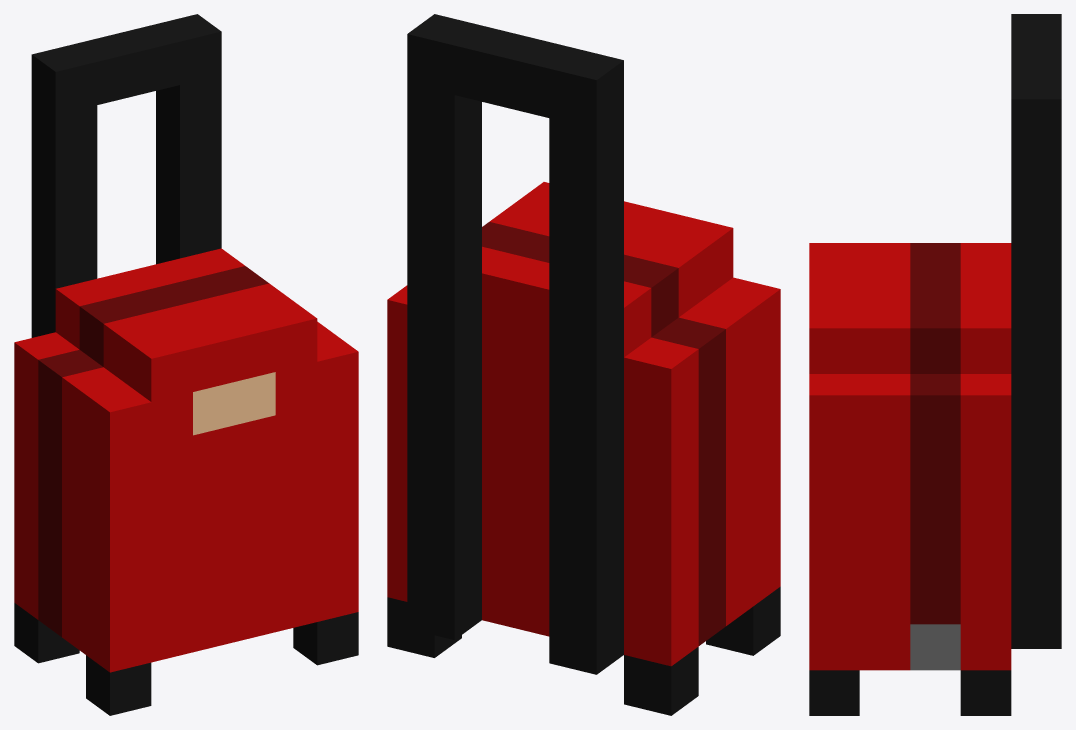
The model's file is luggage_red.obj.
3 renders of one model, left to right at view 1: azimuth 30°, elevation 25°; view 2: azimuth 150°, elevation 25°; view 3: azimuth 270°, elevation 25°, orthographic. The views are drawn at different scales.
Parts seen in each view (by area): view 1: luggage_red; view 2: luggage_red; view 3: luggage_red.
Boxes of the visible parts, x1,y1,x2,y2 form: luggage_red: (14,14,358,715); luggage_red: (387,14,780,715); luggage_red: (809,14,1061,715).
Bounding box in the file's own units: 6 × 13 × 5.
1 material, 1 textured.
